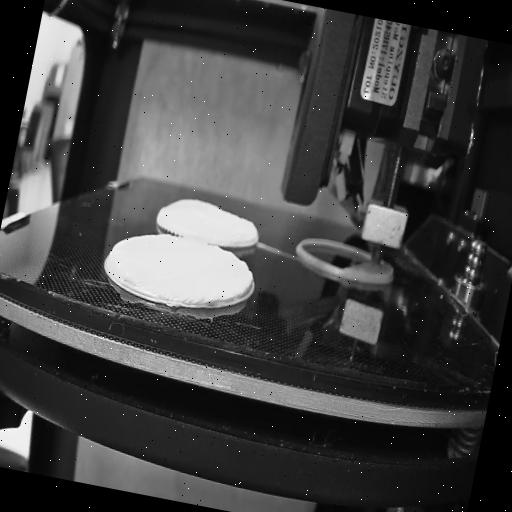over_extrusion: (229, 262, 259, 302)
